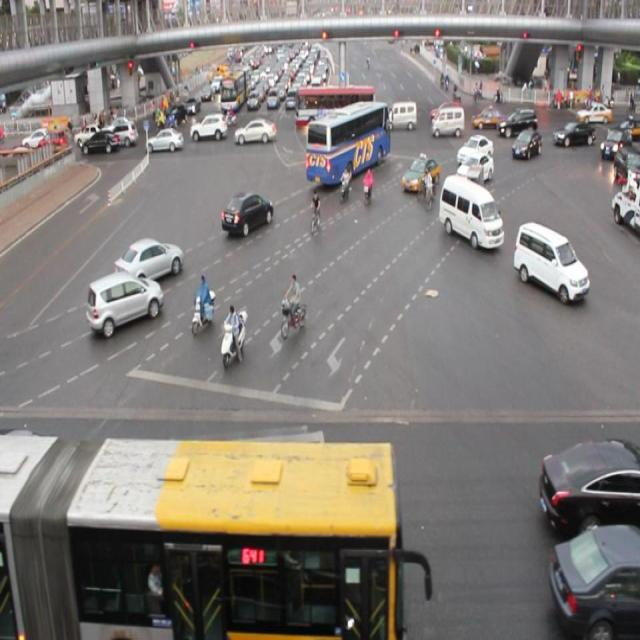car: (549, 524, 640, 632), (536, 434, 640, 527), (89, 270, 162, 336), (116, 235, 185, 286), (222, 192, 274, 233), (402, 156, 439, 195), (233, 117, 277, 144), (457, 153, 493, 182), (509, 130, 541, 162), (456, 130, 491, 159), (553, 118, 592, 144)
truck: (512, 222, 588, 304), (438, 173, 502, 251)
van: (1, 430, 404, 640), (307, 103, 390, 183)
